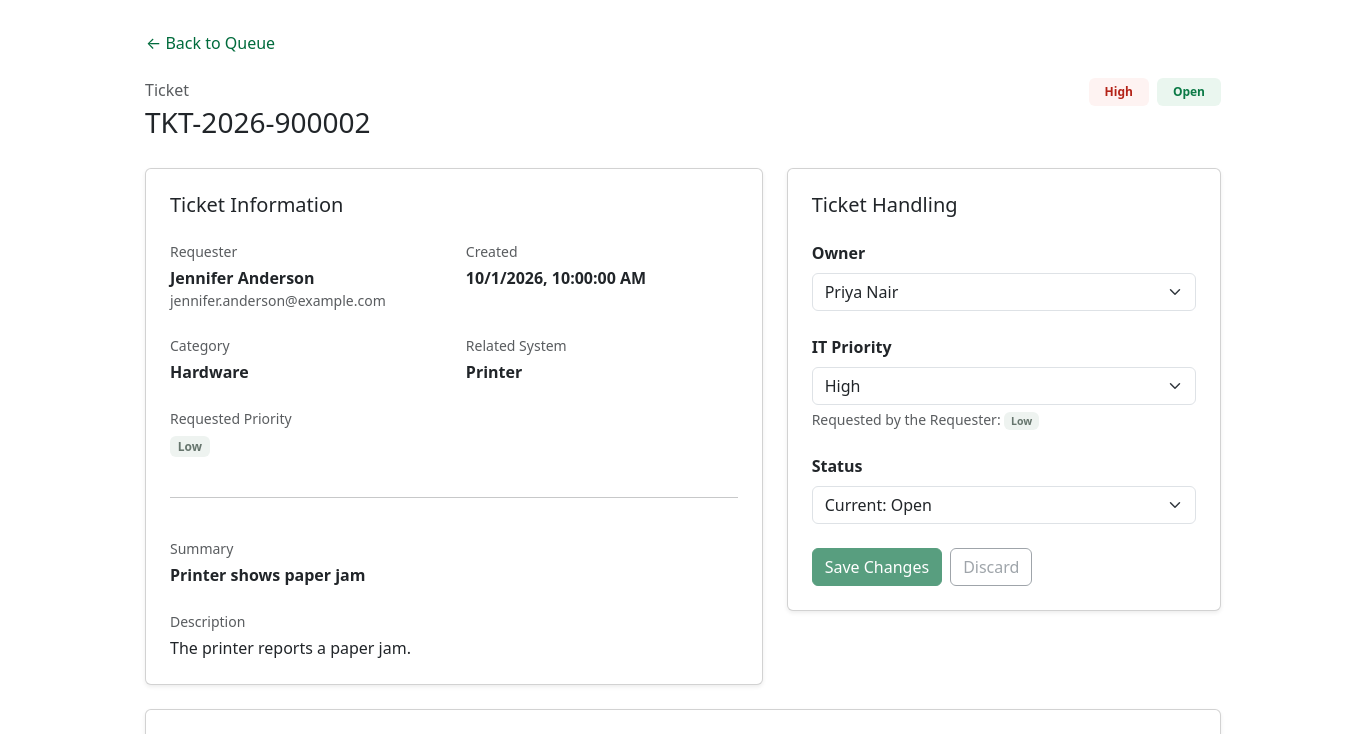
Test: Status control › UI-18 shows the stale message, keeps the input, and Reload loads the latest Ticket
Select "Elena Rossi" in the dropdown labelled "Owner": (1004, 292) [812, 273, 1196, 311]
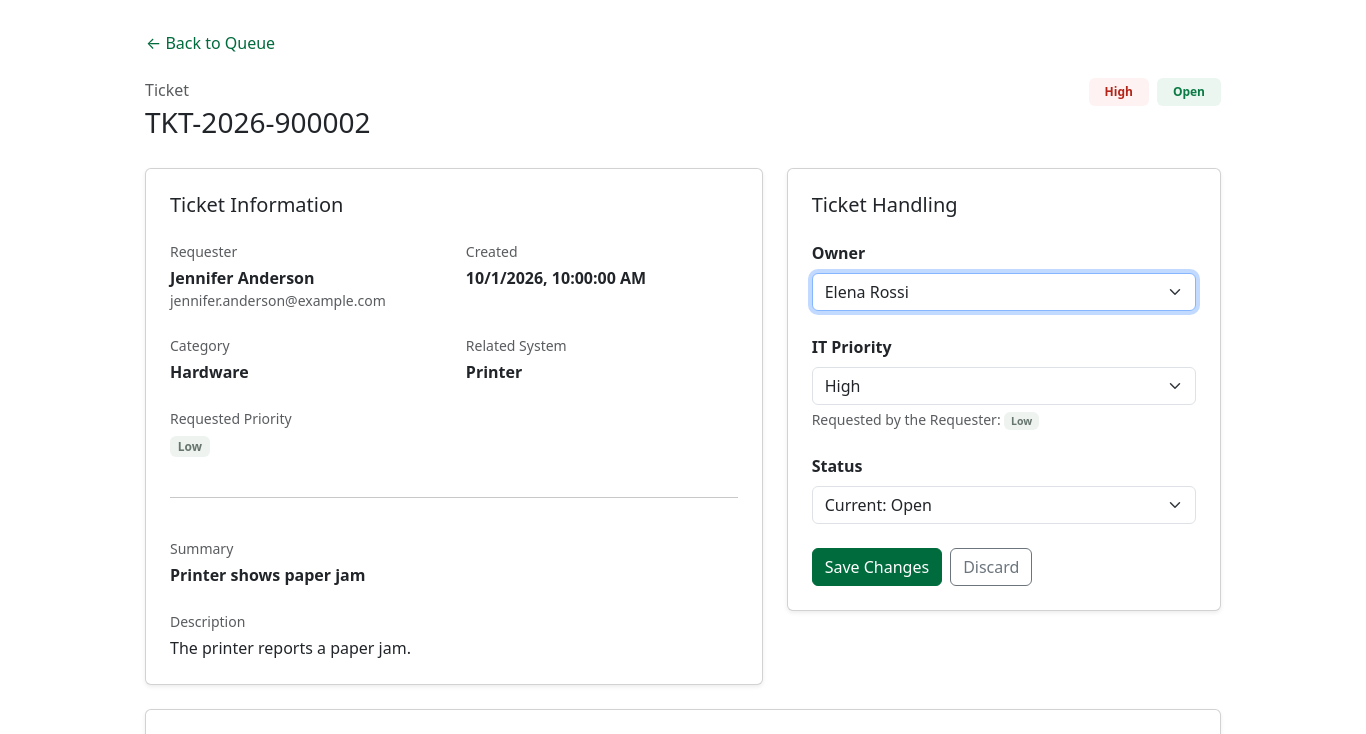
Select "Low" in the dropdown labelled "IT Priority": (1004, 386) [812, 367, 1196, 405]
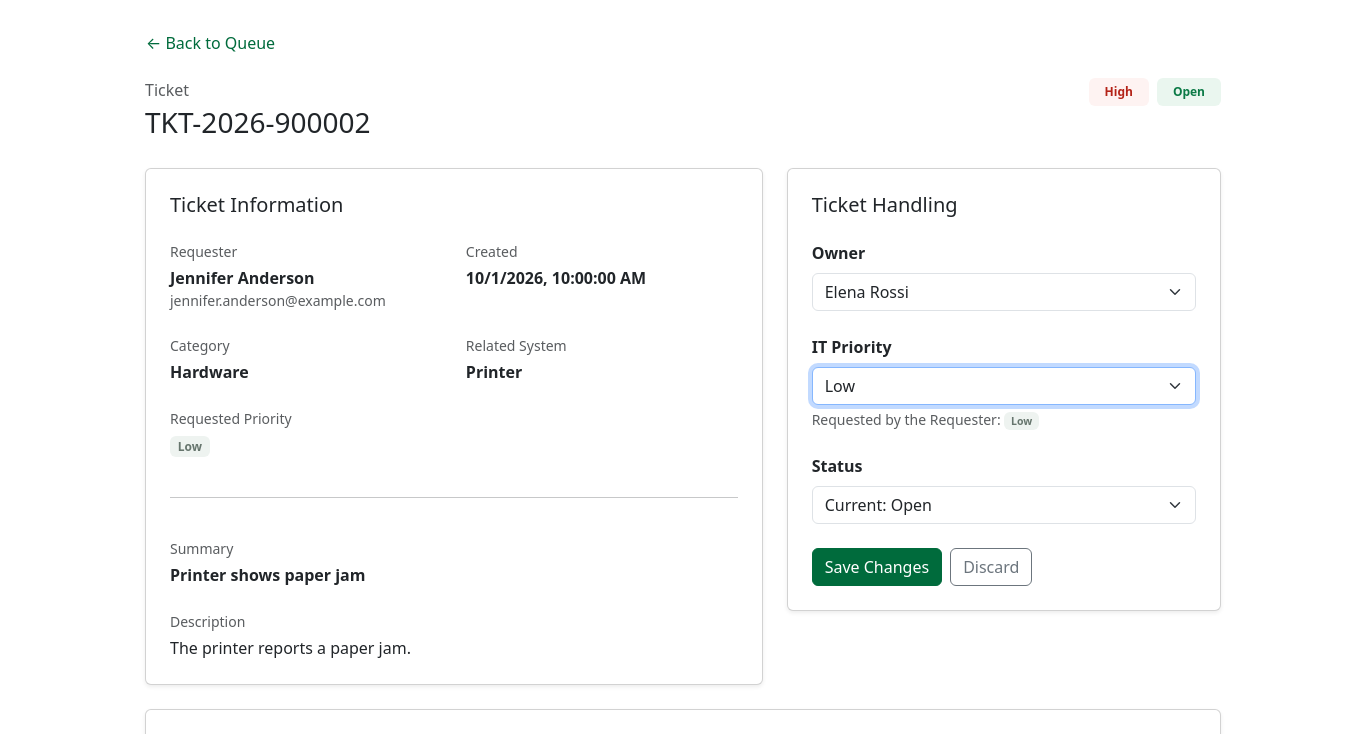
Click the button "Save Changes": (877, 567) [812, 548, 942, 586]
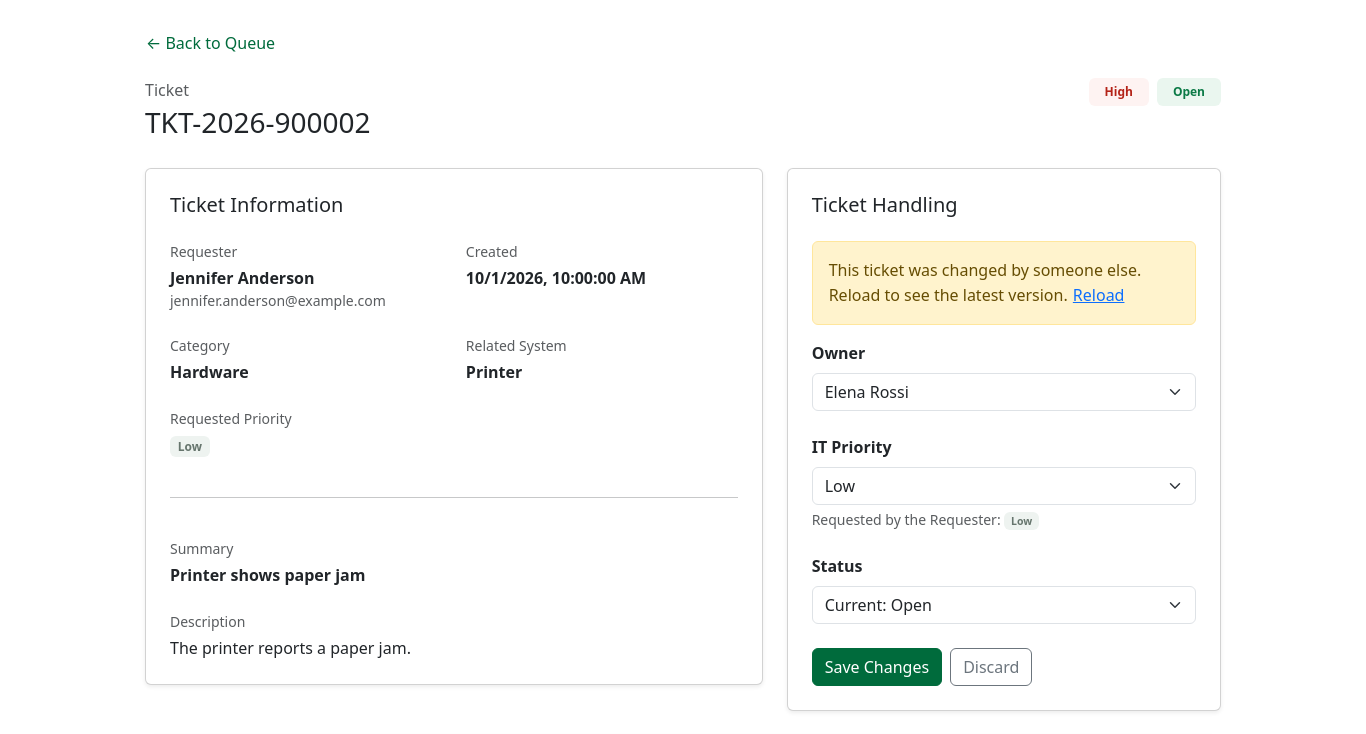
Expected: the message shows "This ticket was changed by someone else. Reload to see the latest version.", [829, 259, 1141, 306]
Click the button "Reload": (1099, 295) [1072, 282, 1125, 308]
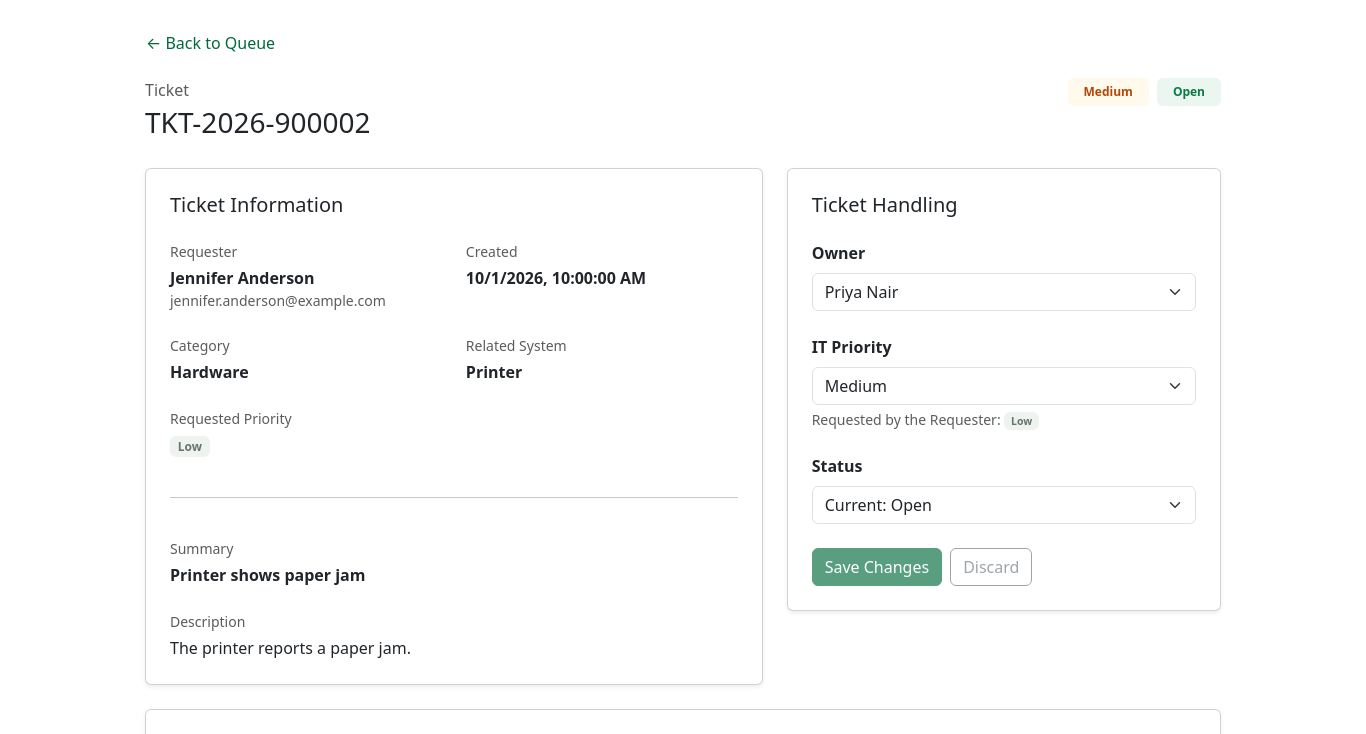
Expected: the dropdown labelled "IT Priority" shows "Medium", [812, 367, 1196, 405]
Expected: the dropdown labelled "Owner" shows "Priya Nair", [812, 273, 1196, 311]
Expected: the text "This ticket was changed by someone else. Reload to see the latest version." is gone
